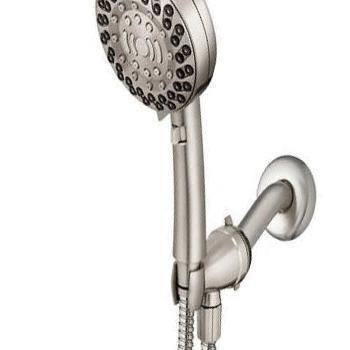Ducha: (74, 0, 328, 349)
